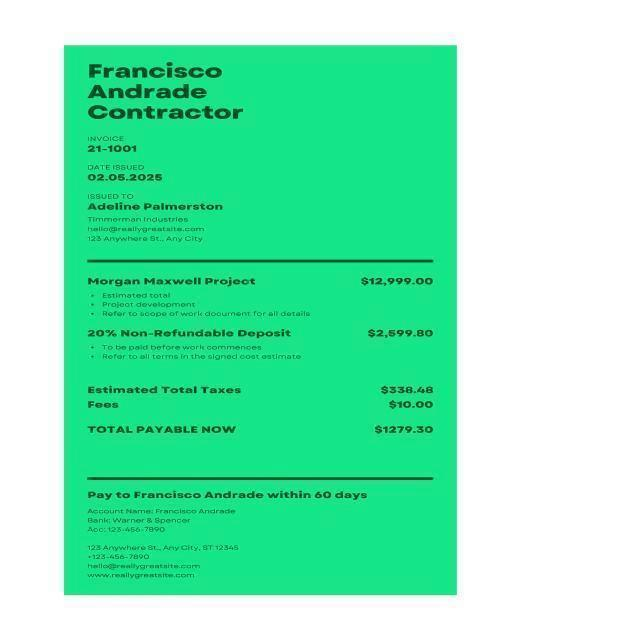paragraph: (84, 270, 442, 368), (83, 379, 445, 451), (81, 57, 260, 125), (83, 190, 228, 250), (87, 542, 242, 582), (85, 507, 242, 537), (84, 487, 370, 503), (87, 160, 165, 187), (84, 133, 153, 155)
